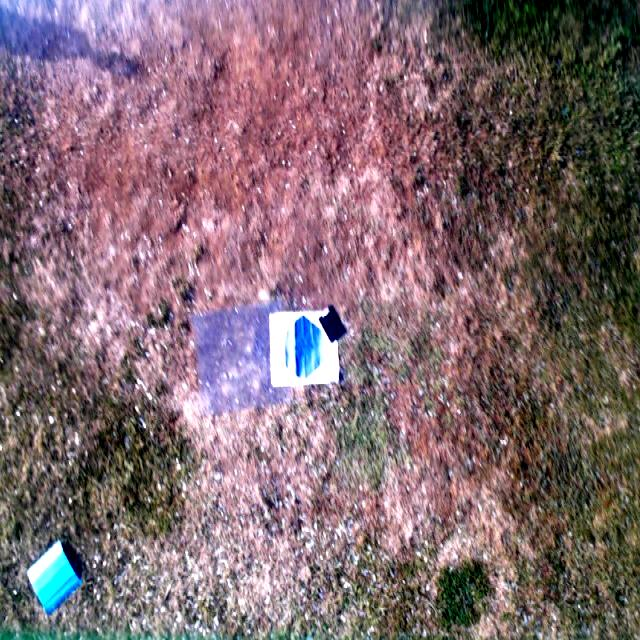blue_square: (26, 540, 78, 614)
